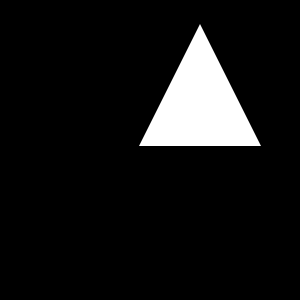triangle: (139, 24, 261, 146)
